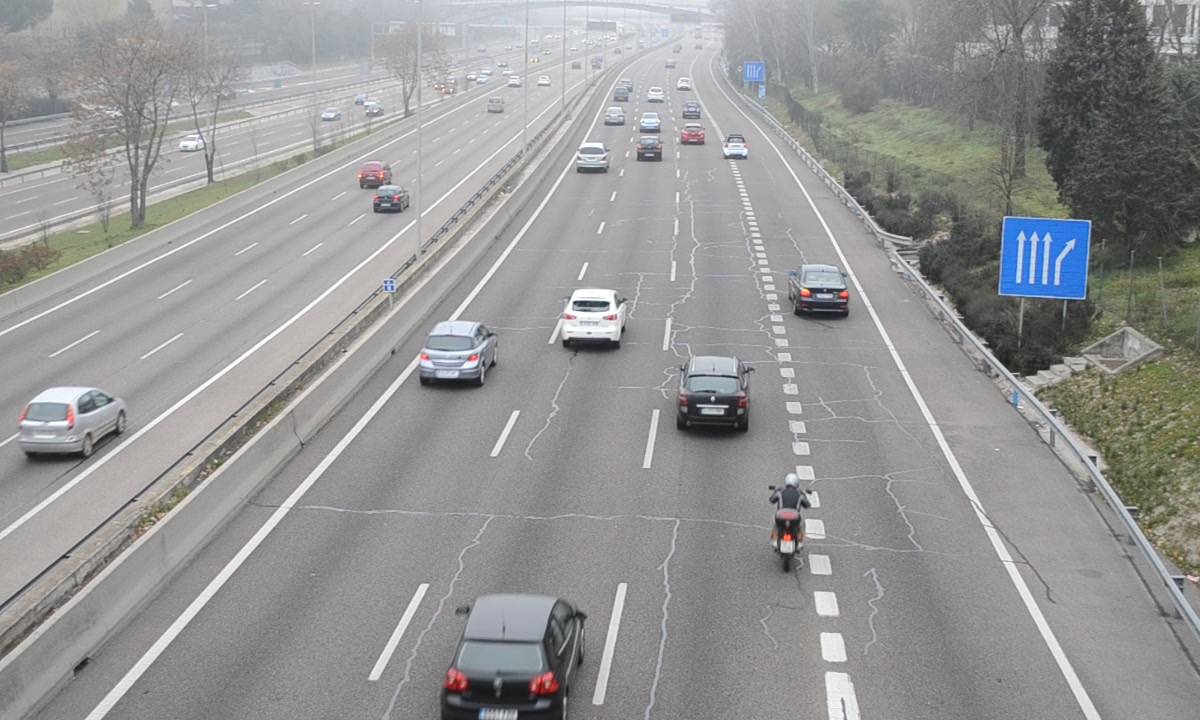car: (439, 594, 584, 720), (677, 354, 748, 430), (418, 320, 498, 383), (561, 288, 625, 348), (791, 263, 850, 317), (575, 141, 611, 174), (636, 134, 662, 162), (722, 132, 748, 159), (680, 121, 708, 146)
motorcycle: (767, 474, 815, 577)
